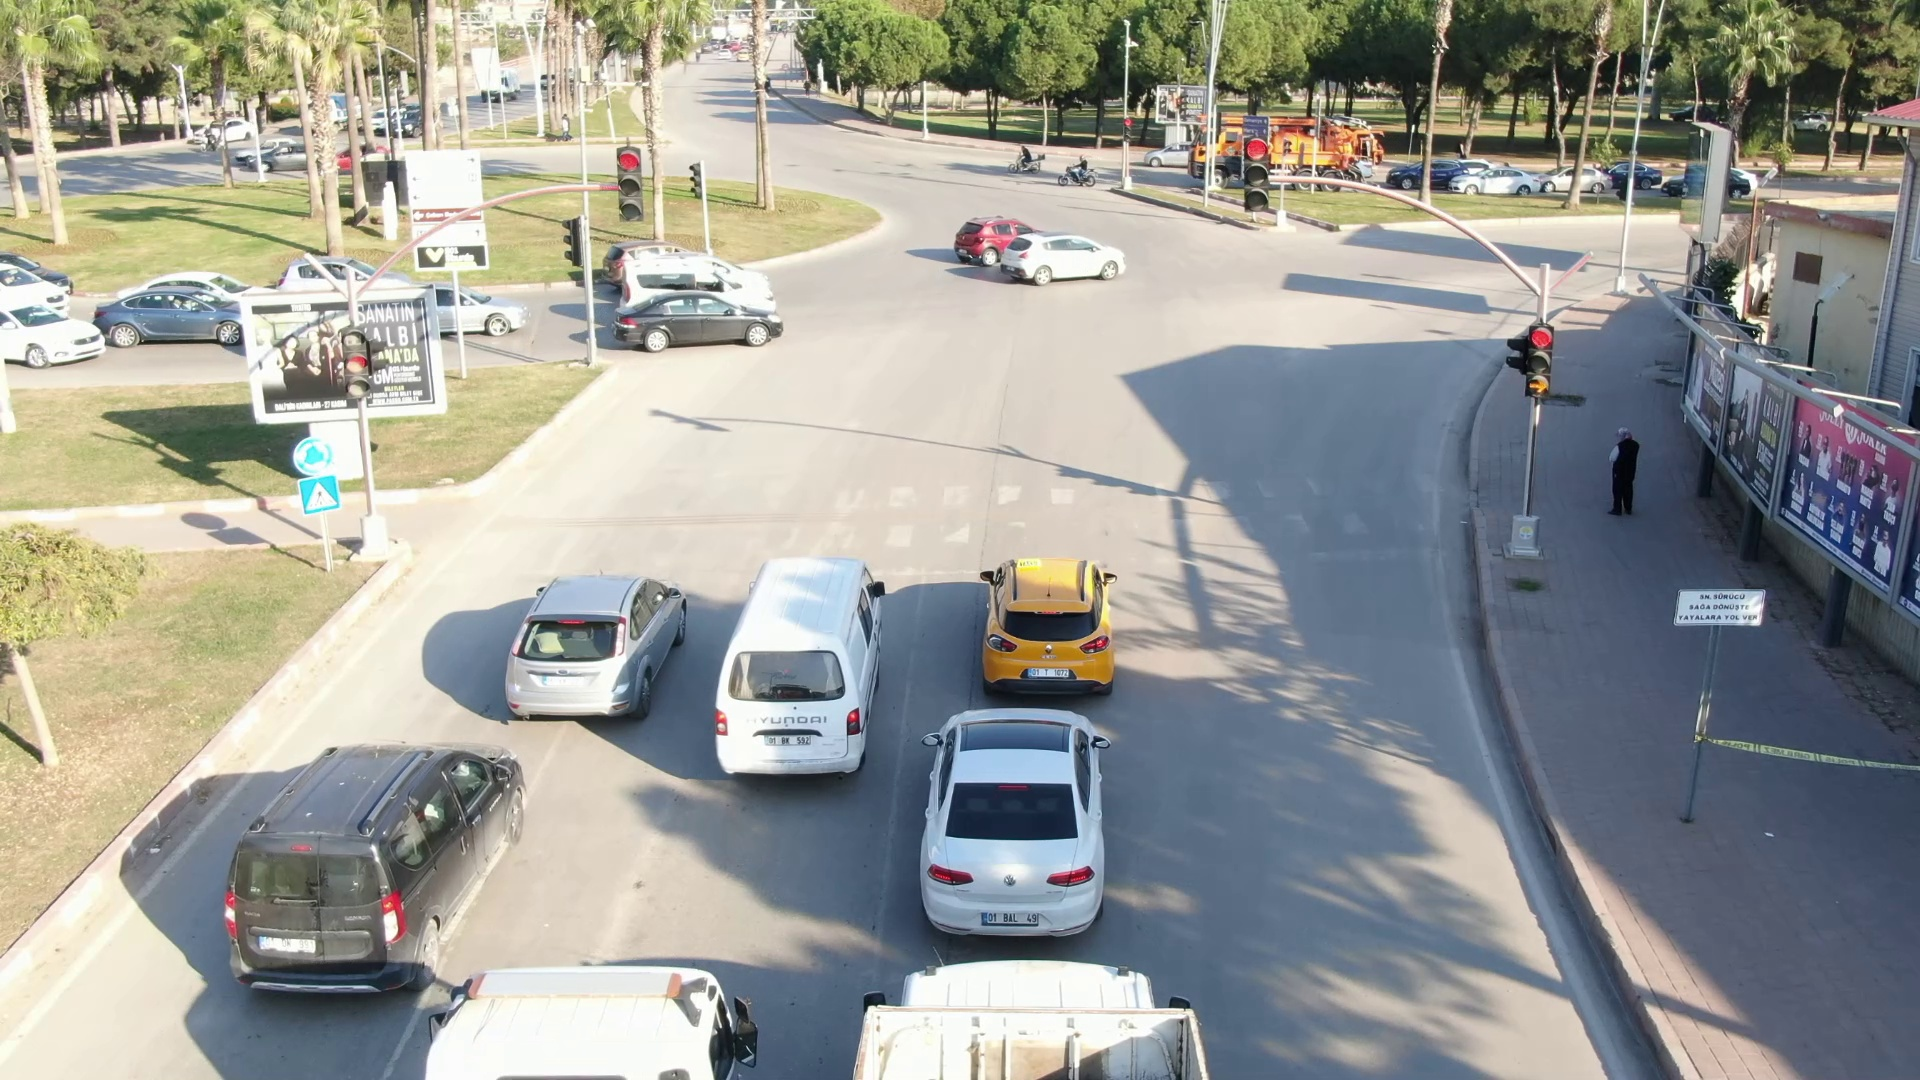car: (198, 743, 535, 998), (910, 702, 1114, 947), (696, 553, 896, 792), (498, 568, 694, 735), (963, 553, 1114, 708), (614, 294, 786, 347), (998, 231, 1127, 286)
person: (1604, 423, 1651, 521)
